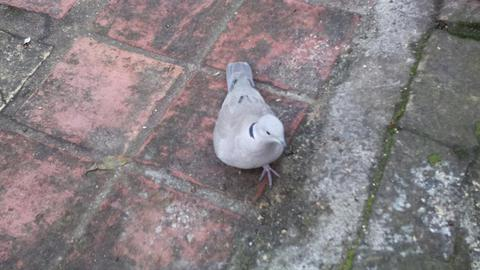collared dove: (212, 61, 288, 189)
